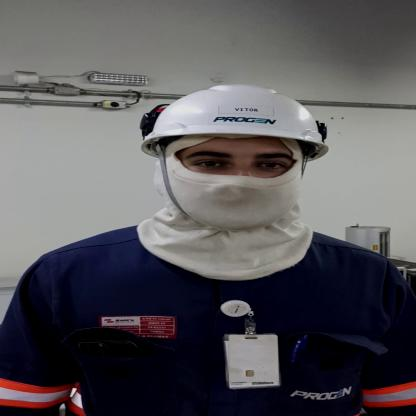Balaclava: (131, 137, 321, 281)
Capacete: (133, 84, 339, 165)
